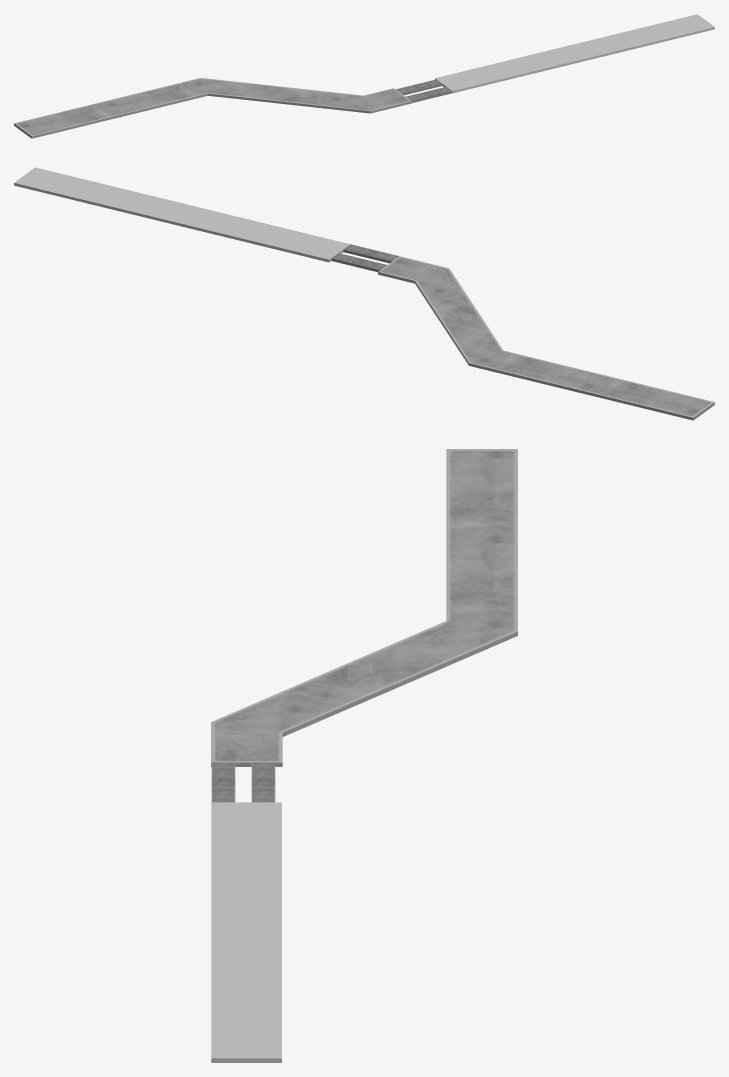
Rendered from level4 3.FBX.
3 renders of one model, top to bottom at view 1: azimuth 30°, elevation 25°; view 2: azimuth 150°, elevation 25°; view 3: azimuth 270°, elevation 25°, orthographic. The views are drawn at different scales.
Parts seen in each view (by area): view 1: pCube001, pCube333, pCube99, pCube339; view 2: pCube001, pCube333, pCube99, pCube339; view 3: pCube001, pCube333, pCube99, pCube339.
Boxes of the visible parts, x1,y1,x2,y2 form: pCube001: (14, 78, 411, 138); pCube333: (435, 14, 714, 93); pCube99: (406, 86, 452, 102); pCube339: (396, 79, 442, 95); pCube001: (378, 256, 714, 420); pCube333: (14, 167, 349, 262); pCube99: (343, 244, 399, 263); pCube339: (331, 253, 386, 272); pCube001: (211, 449, 517, 766); pCube333: (211, 802, 281, 1062); pCube99: (211, 762, 235, 802); pCube339: (251, 762, 275, 802).
Bounding box in the file's own units: 2651 × 9.8 × 565.
